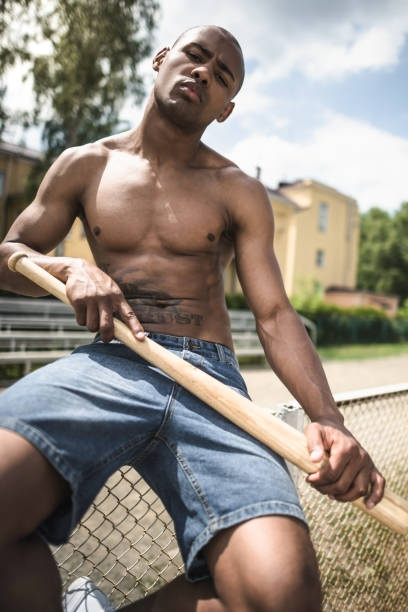bita: (12, 256, 408, 539)
